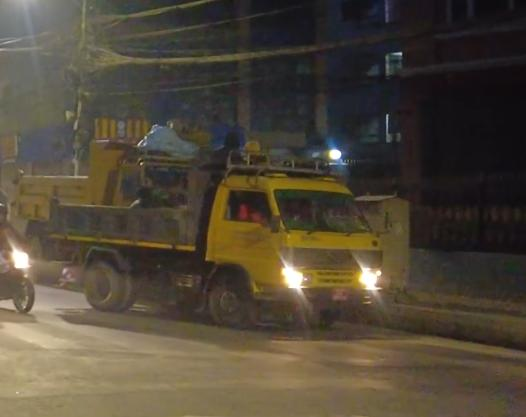mini_truck: (39, 139, 394, 330)
